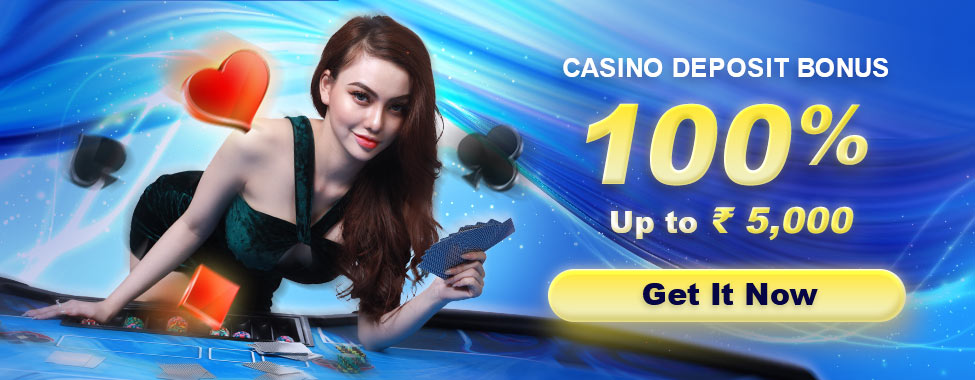%: (800, 101, 873, 172)
,: (768, 222, 781, 239)
0: (646, 98, 720, 190), (723, 99, 795, 188), (828, 205, 857, 235), (805, 205, 830, 236), (783, 204, 807, 235)
1: (582, 101, 642, 190)
5: (745, 204, 771, 234)
A: (580, 58, 599, 80)
B: (796, 56, 815, 80)
C: (562, 55, 582, 79)
D: (671, 55, 690, 79)
E: (690, 56, 708, 79)
G: (642, 281, 667, 308)
I: (710, 281, 721, 307), (616, 55, 626, 81), (764, 56, 773, 80)
N: (745, 279, 768, 308), (625, 55, 645, 79), (836, 56, 855, 81)
O: (643, 57, 663, 80), (727, 56, 747, 78), (814, 58, 834, 78)
P: (707, 56, 725, 80)
S: (872, 56, 890, 78), (599, 56, 616, 78), (746, 57, 763, 79)
T: (773, 54, 791, 80)
U: (608, 207, 634, 234), (855, 56, 872, 77)
e: (668, 286, 686, 307)
o: (770, 286, 789, 307), (680, 215, 698, 234)
p: (634, 215, 655, 242)
t: (664, 209, 679, 236), (686, 282, 700, 308), (720, 283, 735, 307)
w: (789, 286, 818, 307)
